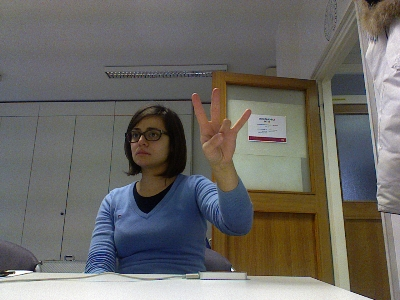观音: (189, 85, 252, 165)
